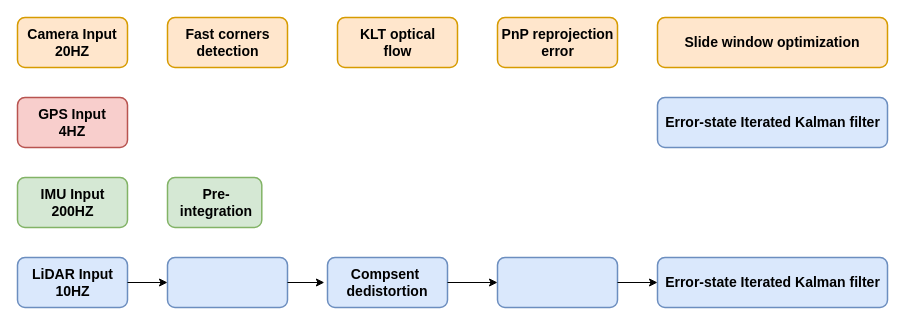
Image size: 906x326. Some labels were removed from this diagram. Each missing label, with the box of its shape:
Plane-featue extration: (166, 256, 288, 308)
Point-to-plane residual: (496, 256, 618, 308)
